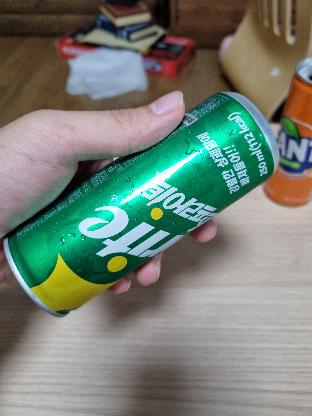Can: (24, 94, 266, 318)
